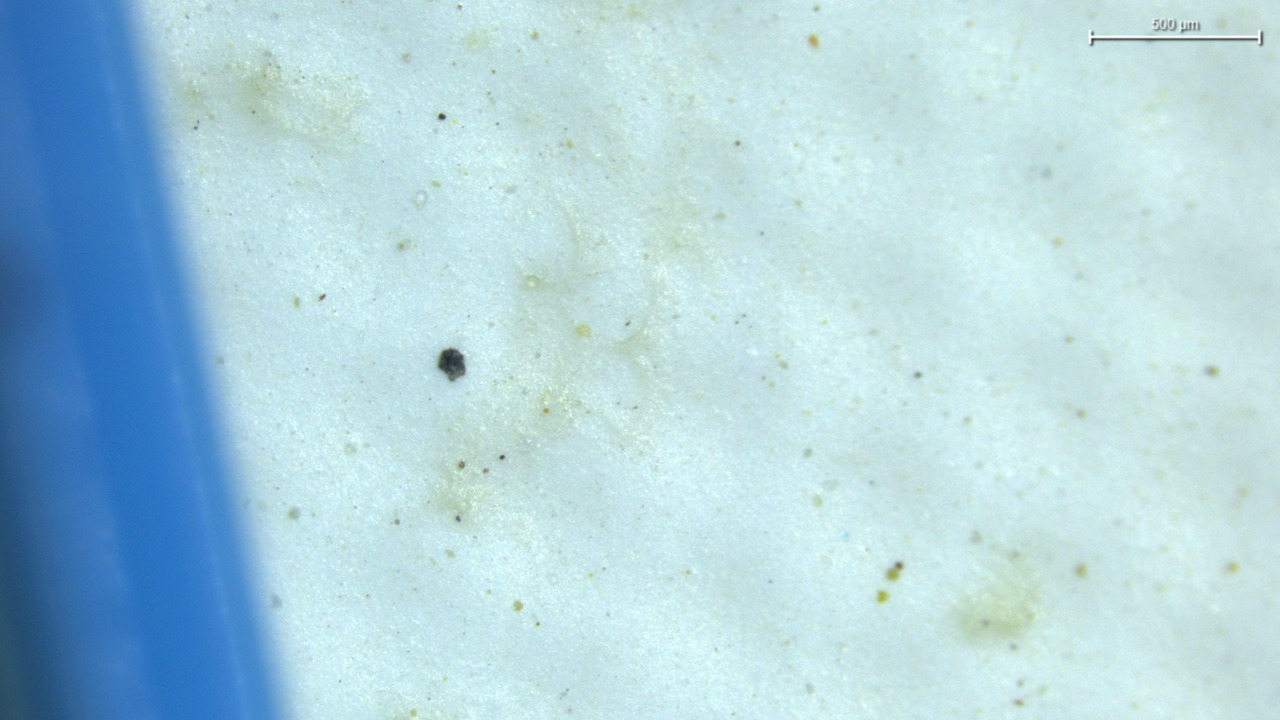microplastic_fragment: (437, 348, 466, 381)
